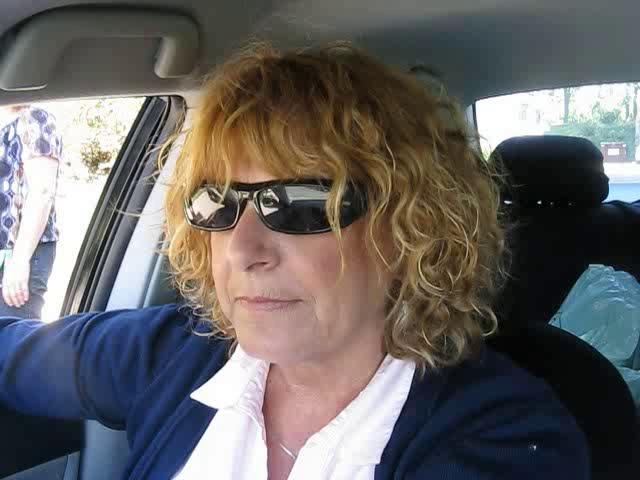no_yawn: (220, 275, 316, 332)
